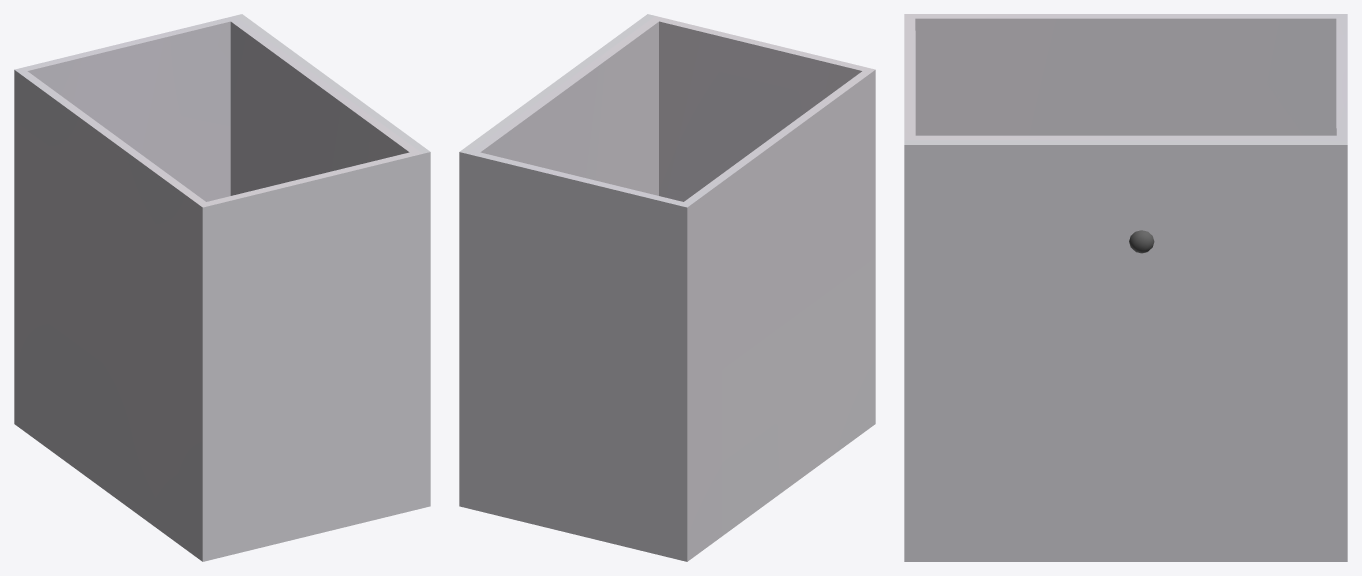
Rendered from chestOfDrawers_DrawerMid.glb.
3 views of the same model, side by side, from view 1: azimuth 30°, elevation 25°; view 2: azimuth 150°, elevation 25°; view 3: azimuth 270°, elevation 25° (orthographic). The views are drawn at different scales.
Visible parts, largest first — view 1: RC_Furn_Dresser_Drawer3.001; view 2: RC_Furn_Dresser_Drawer3.001; view 3: RC_Furn_Dresser_Drawer3.001.
Part boxes in pixels (x1=…): RC_Furn_Dresser_Drawer3.001: x1=14, y1=14, x2=430, y2=561; RC_Furn_Dresser_Drawer3.001: x1=459, y1=14, x2=875, y2=561; RC_Furn_Dresser_Drawer3.001: x1=904, y1=14, x2=1347, y2=561.
Bounding box in the file's own units: 0.7216 × 1.03 × 0.9953.
1 material, 1 textured.
